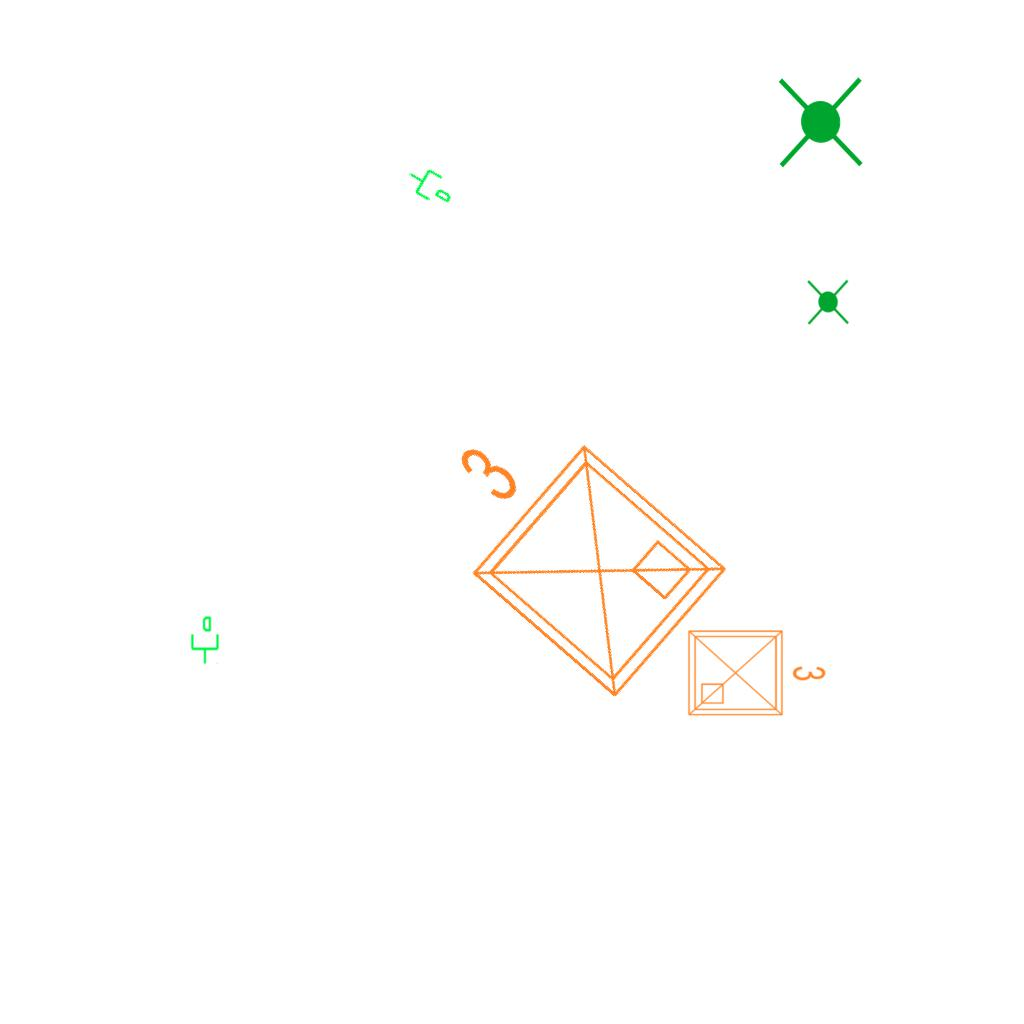Datenanschluss_einfach: (400, 157, 462, 213), (187, 615, 221, 665)
Einbaudownlights_LED_Konferenzraeume: (384, 370, 748, 724), (681, 619, 831, 723)
Notlichtbaustein_in_Allgemeinbeleuchtug_engebaut_Einbau_(1UG_und_2UG_Aufbauvaria: (768, 72, 871, 172), (802, 277, 853, 327)
